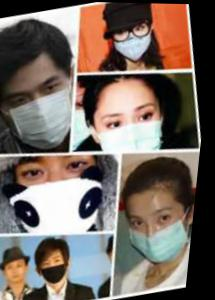NONE: (8, 260, 34, 286)
OK: (12, 150, 117, 245), (1, 71, 82, 154), (91, 97, 172, 170), (110, 16, 156, 60), (42, 251, 80, 286)
WRONG: (125, 199, 199, 269)
